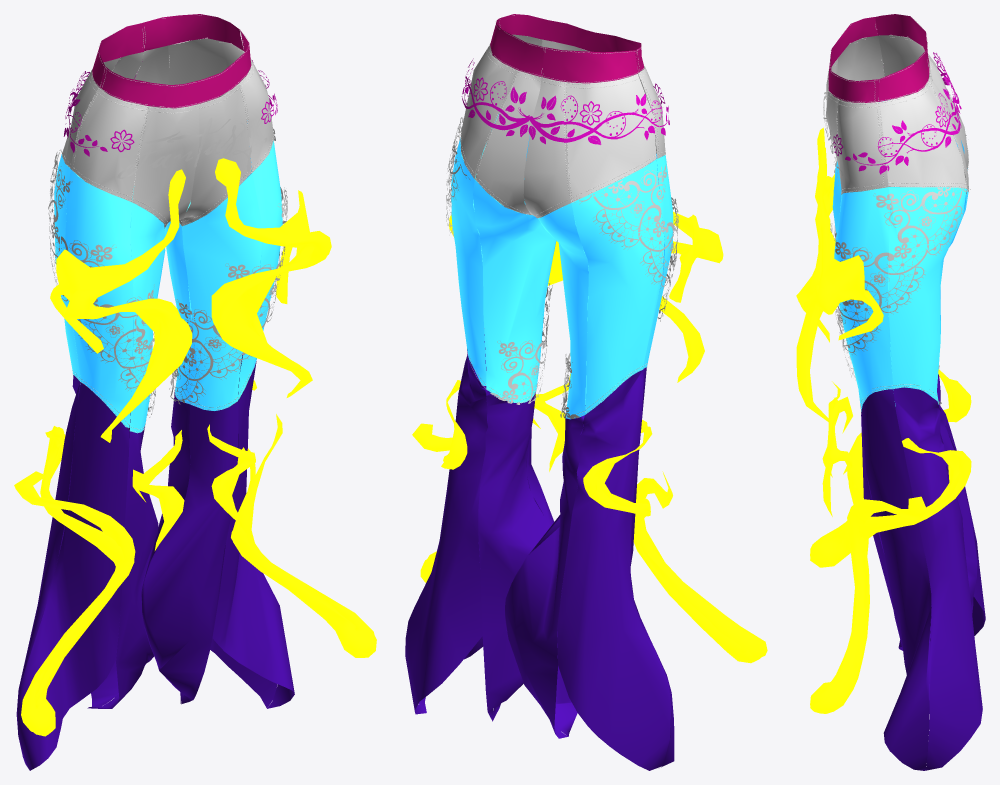
Rendered from srnatb.glb.
3 renders of one model, left to right at view 1: azimuth 30°, elevation 25°; view 2: azimuth 150°, elevation 25°; view 3: azimuth 270°, elevation 25°, orthographic. The views are drawn at different scales.
Parts seen in each view (by area): view 1: TB_SRNA_TROUSERS.002; view 2: TB_SRNA_TROUSERS.002; view 3: TB_SRNA_TROUSERS.002.
Boxes of the visible parts, x1=… form: TB_SRNA_TROUSERS.002: x1=14, y1=14, x2=376, y2=770; TB_SRNA_TROUSERS.002: x1=405, y1=14, x2=767, y2=770; TB_SRNA_TROUSERS.002: x1=796, y1=14, x2=985, y2=770.
Bounding box in the file's own units: 1.73 × 3.38 × 0.8588.
9 materials, 3 textured.
